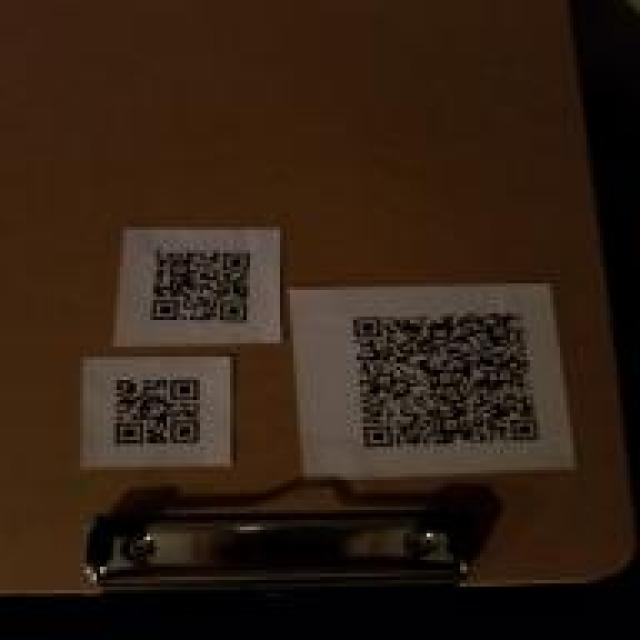QR_CODE: (336, 292, 556, 473), (136, 238, 266, 344), (90, 366, 220, 466)
